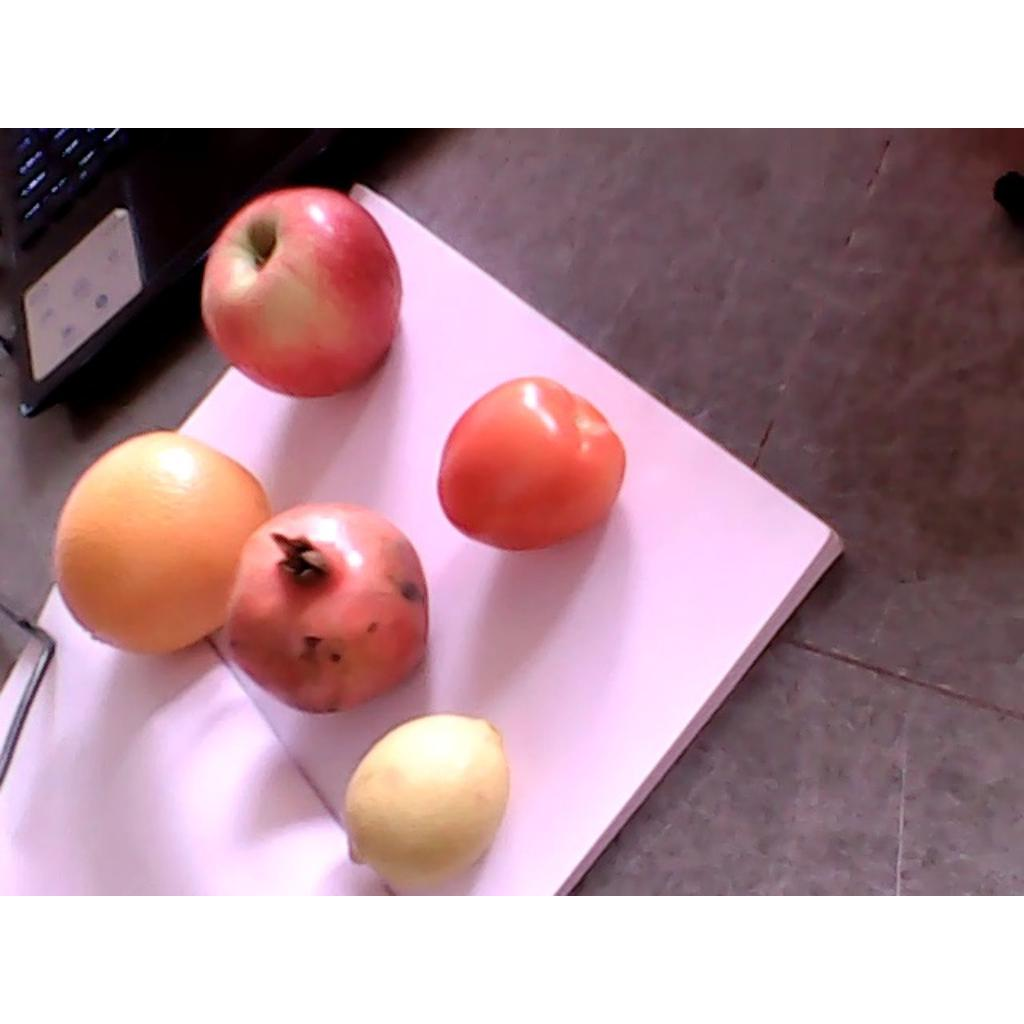apple: (199, 187, 401, 395)
lemon: (344, 714, 513, 887)
orange: (54, 431, 272, 653)
pomegranate: (225, 497, 430, 712)
tomato: (433, 375, 628, 549)
